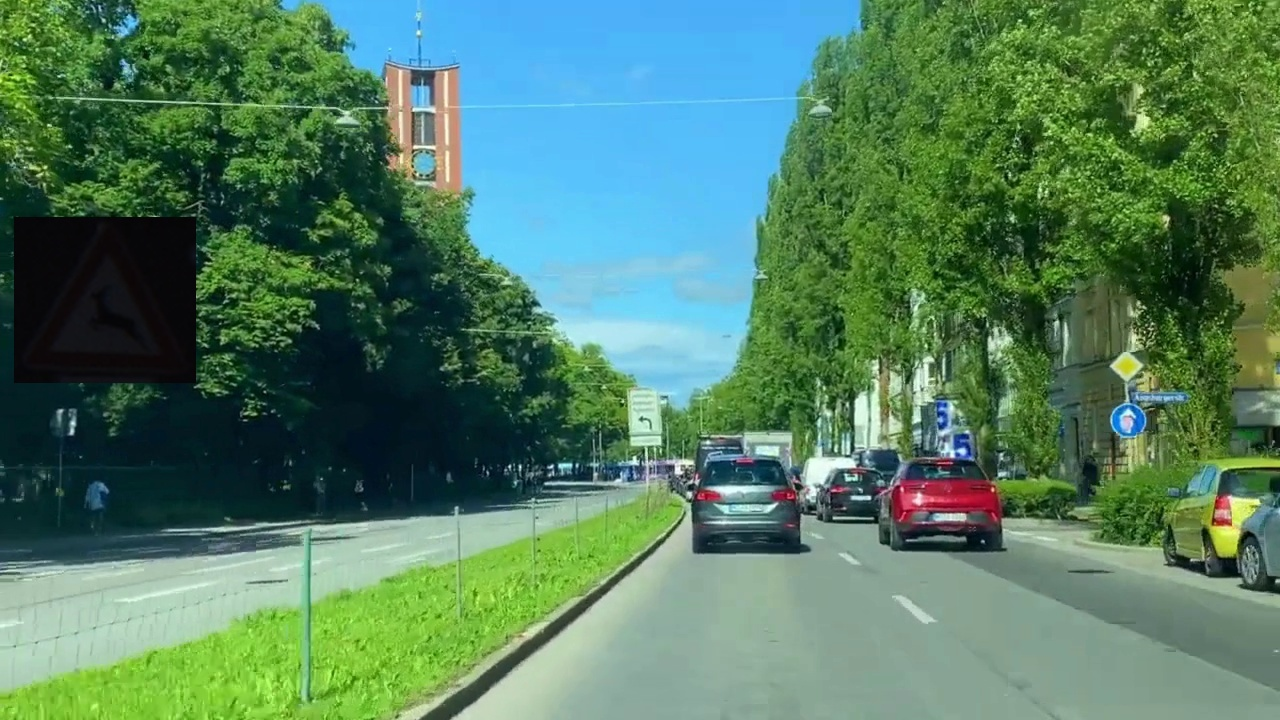Wild animals: (14, 217, 196, 383)
